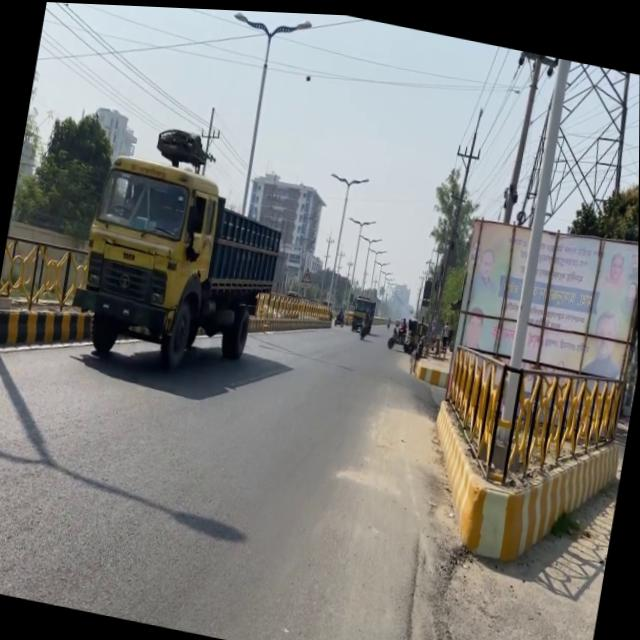Construction-barrier: (0, 290, 143, 380), (410, 347, 452, 384)
Fallen-tree: (386, 319, 409, 348), (358, 313, 373, 338)
Light-pole: (486, 51, 575, 480)
Pole: (415, 336, 633, 577)
Traffic-cone: (65, 111, 297, 388), (345, 290, 377, 334)
